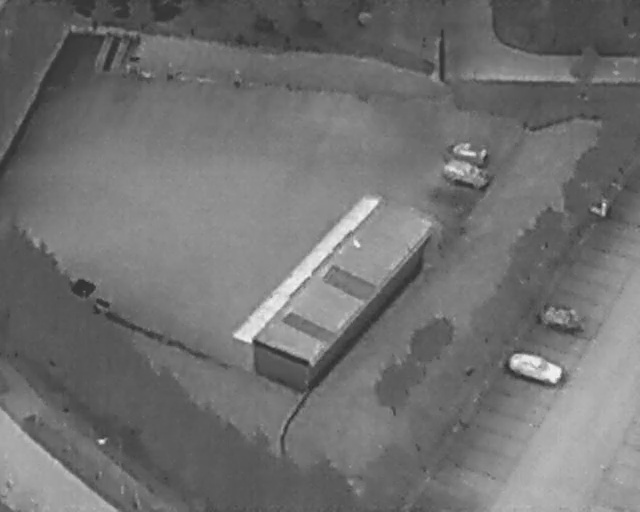Car: (505, 347, 565, 386), (437, 154, 494, 193), (446, 140, 487, 162)
